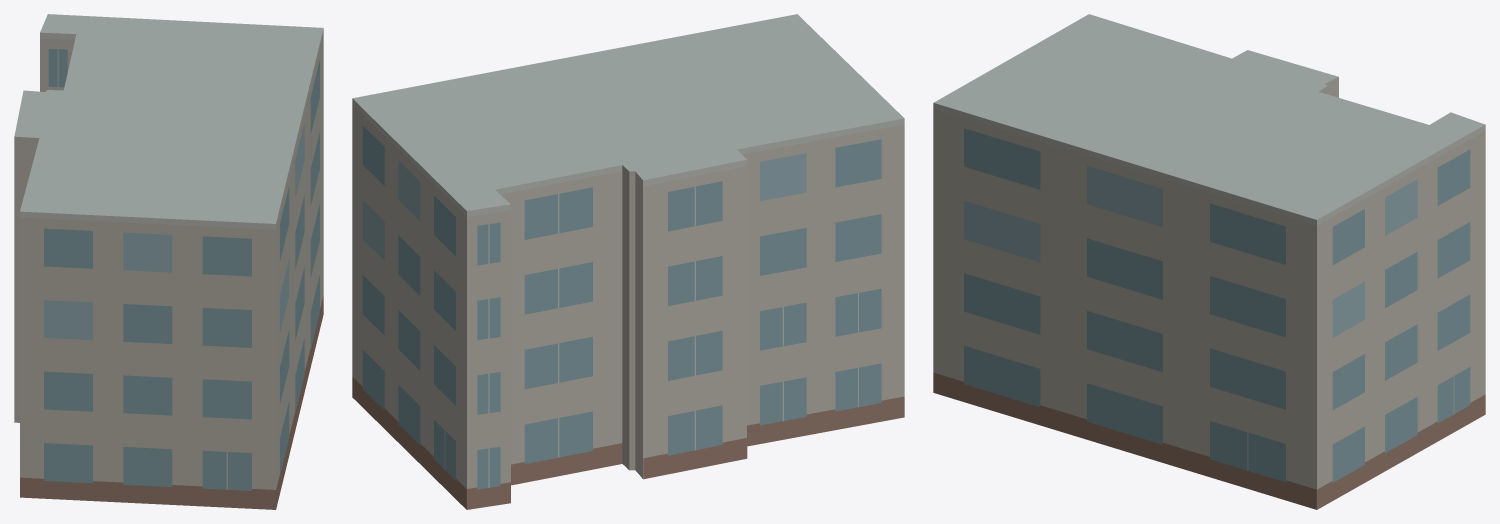
The model's file is survey-upis-32496051.glb.
3 renders of one model, left to right at view 1: azimuth 30°, elevation 25°; view 2: azimuth 150°, elevation 25°; view 3: azimuth 270°, elevation 25°, orthographic. The views are drawn at different scales.
Parts seen in each view (by area): view 1: survey-upis-32496051.tmp; view 2: survey-upis-32496051.tmp; view 3: survey-upis-32496051.tmp.
Boxes of the visible parts, bbox=[...] form: survey-upis-32496051.tmp: bbox=[14, 14, 323, 509]; survey-upis-32496051.tmp: bbox=[352, 14, 904, 509]; survey-upis-32496051.tmp: bbox=[933, 14, 1485, 509].
Size of the model in its own units: 18.59 by 12.2 by 21.06.
